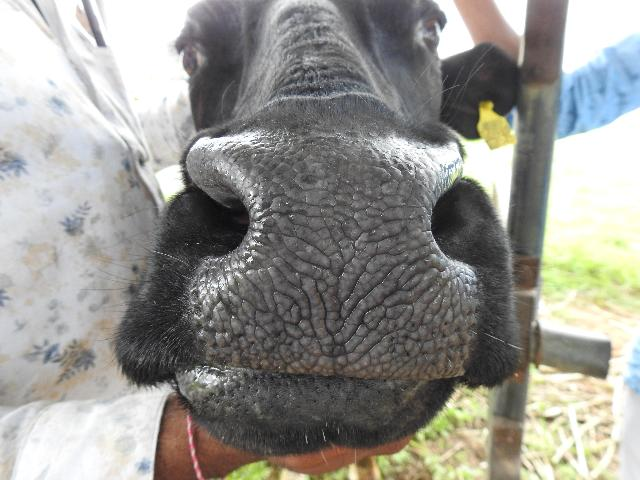Muzzle: (235, 123, 443, 369)
